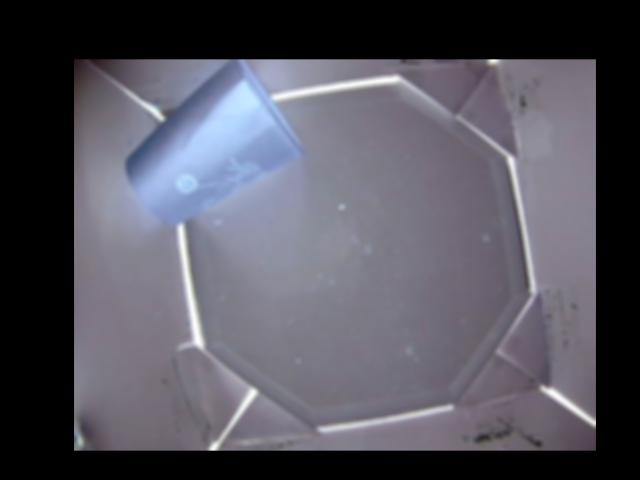Cup: (125, 60, 301, 228)
